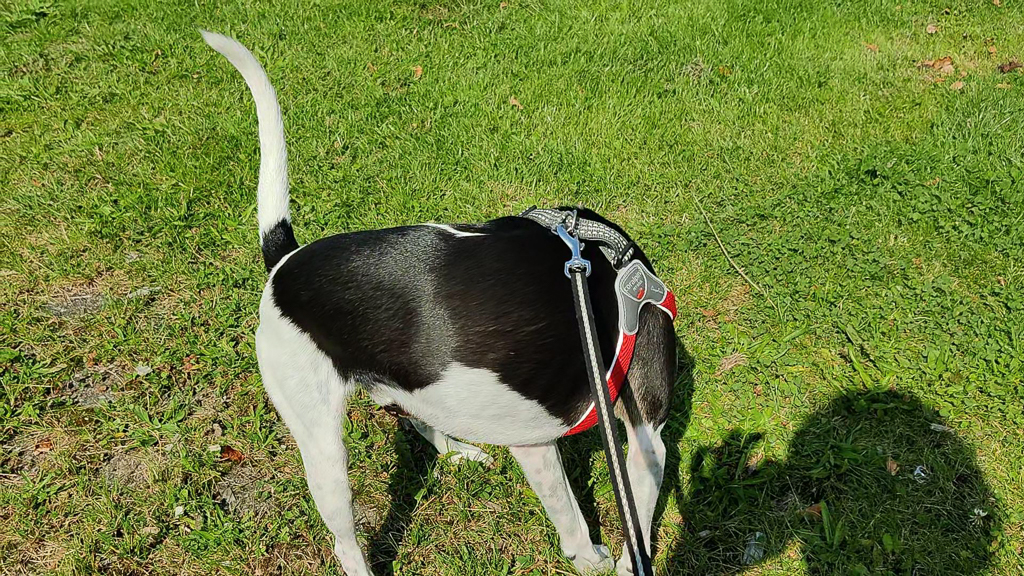Dog: (183, 17, 695, 576)
